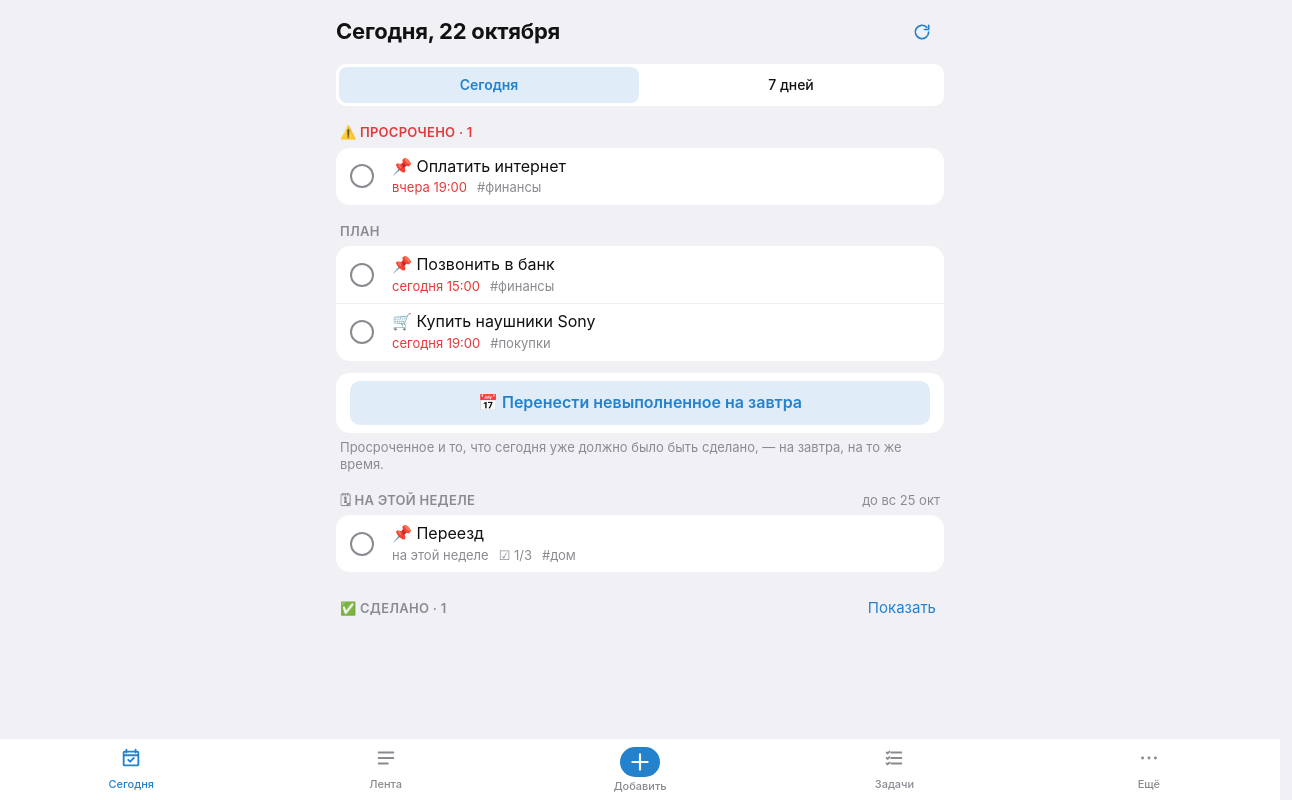
Test case: with the mock API › shows today, signs every request and ticks a task optimistically
The width and height of the screenshot is (1292, 800).
Expected: the text "Позвонить в банк" is shown, 416,254 -> 555,274
Expected: the text "Оплатить интернет" is shown, 416,156 -> 566,176
Click the checkbox named "Отметить сделанным: Позвонить в банк" at (362, 275), box 340,253 -> 384,297
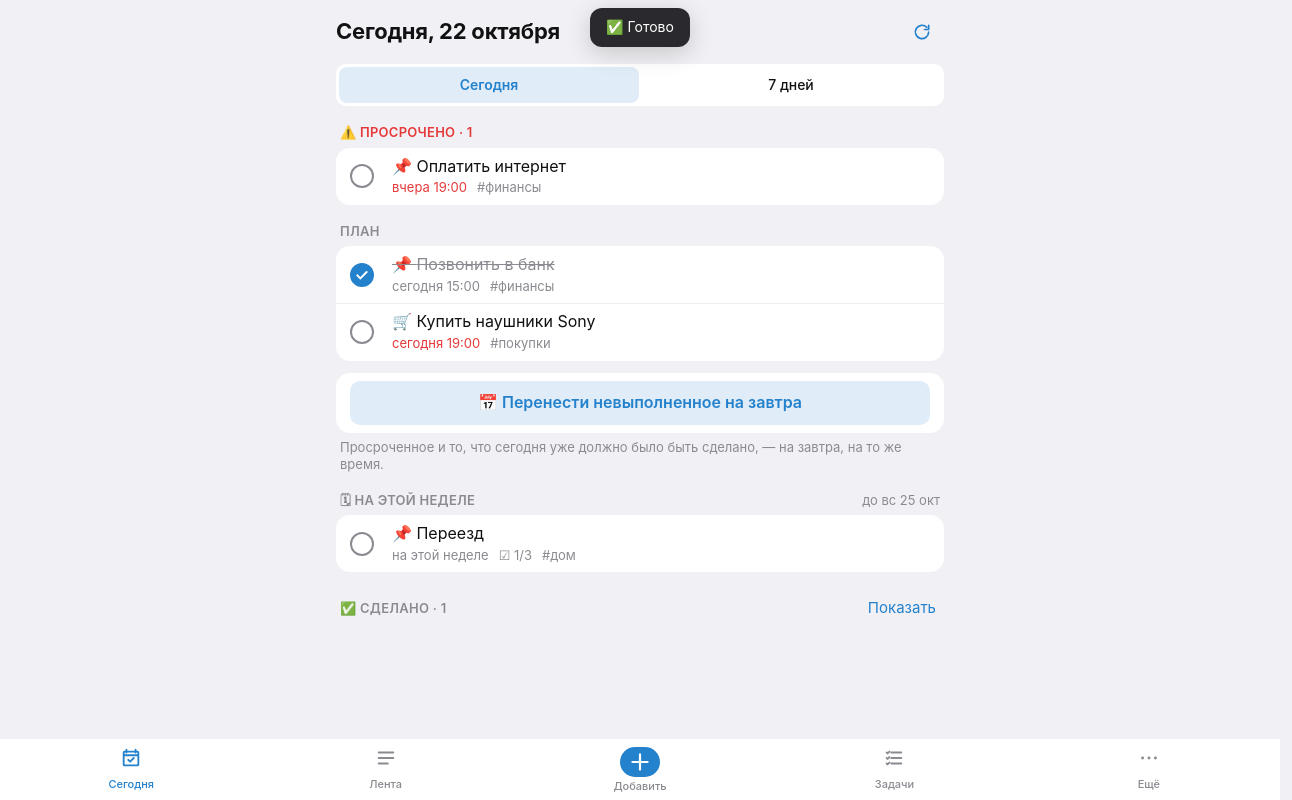
Expected: the text "✅ Готово" is shown, 590,8 -> 690,47
